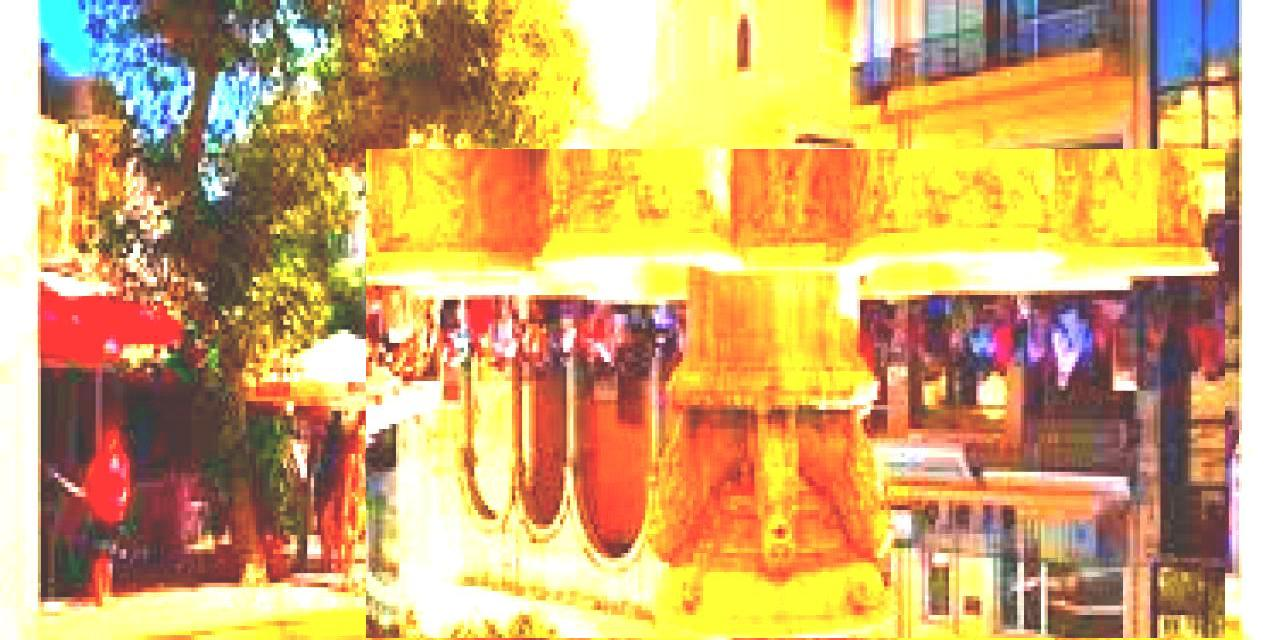Liontaria: (367, 150, 1226, 639)
